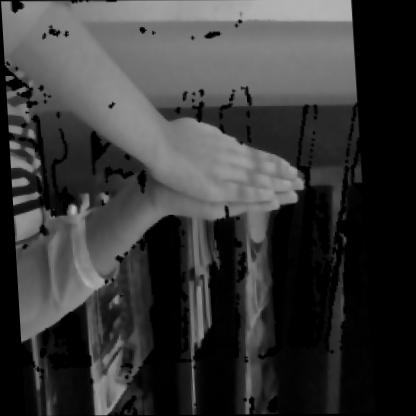namaste: (97, 81, 323, 252)
